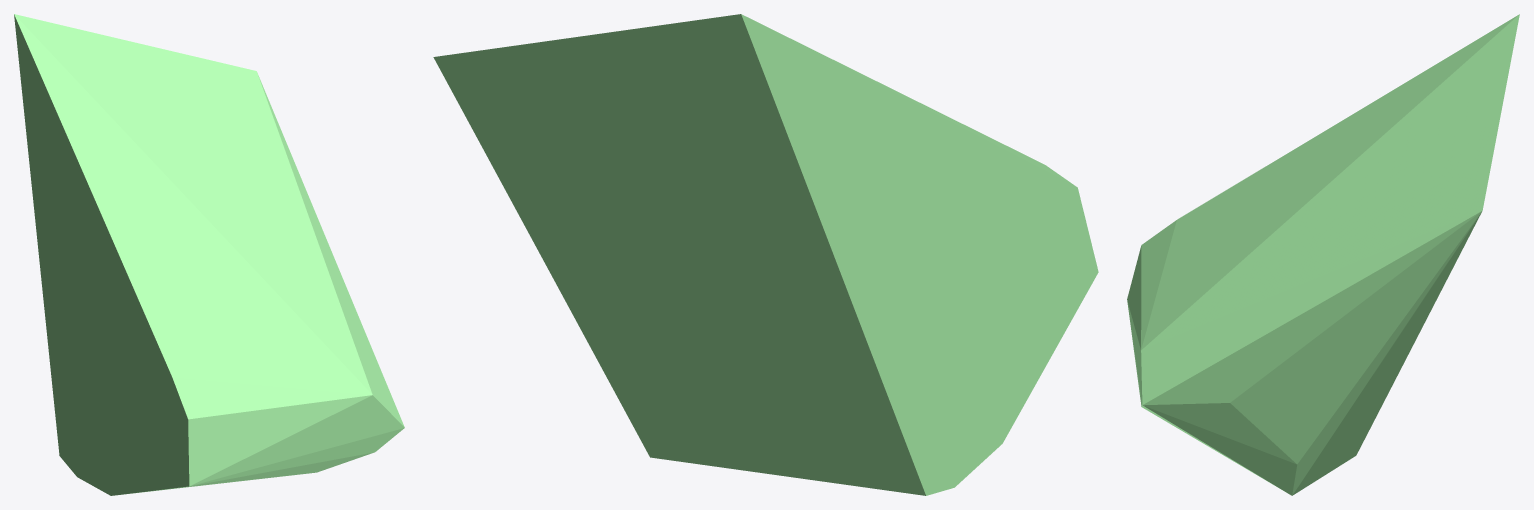
File: UMIRobot_UMIRobot_link_5_convex_coll_26.dae
3 views of the same model, side by side, from view 1: azimuth 30°, elevation 25°; view 2: azimuth 150°, elevation 25°; view 3: azimuth 270°, elevation 25° (orthographic). The views are drawn at different scales.
Visible parts, largest first — view 1: node; view 2: node; view 3: node.
Part boxes in pixels (<box>): node: <box>14,14,404,495</box>; node: <box>433,14,1098,495</box>; node: <box>1127,14,1519,495</box>.
Size of the model in its own units: 0.0113 by 0.0171 by 0.0154.
